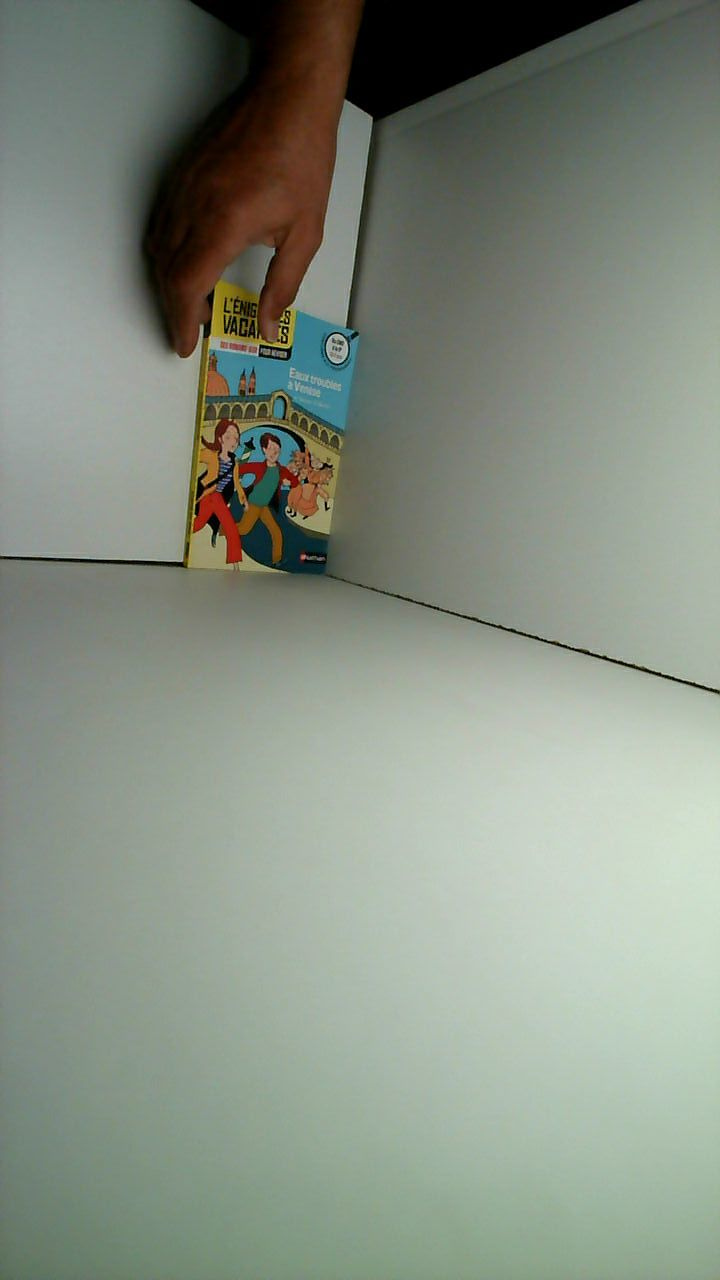book: (160, 258, 382, 604)
